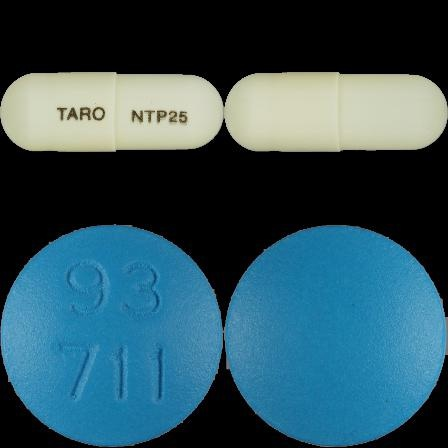50090-0507: (0, 0, 224, 224)
